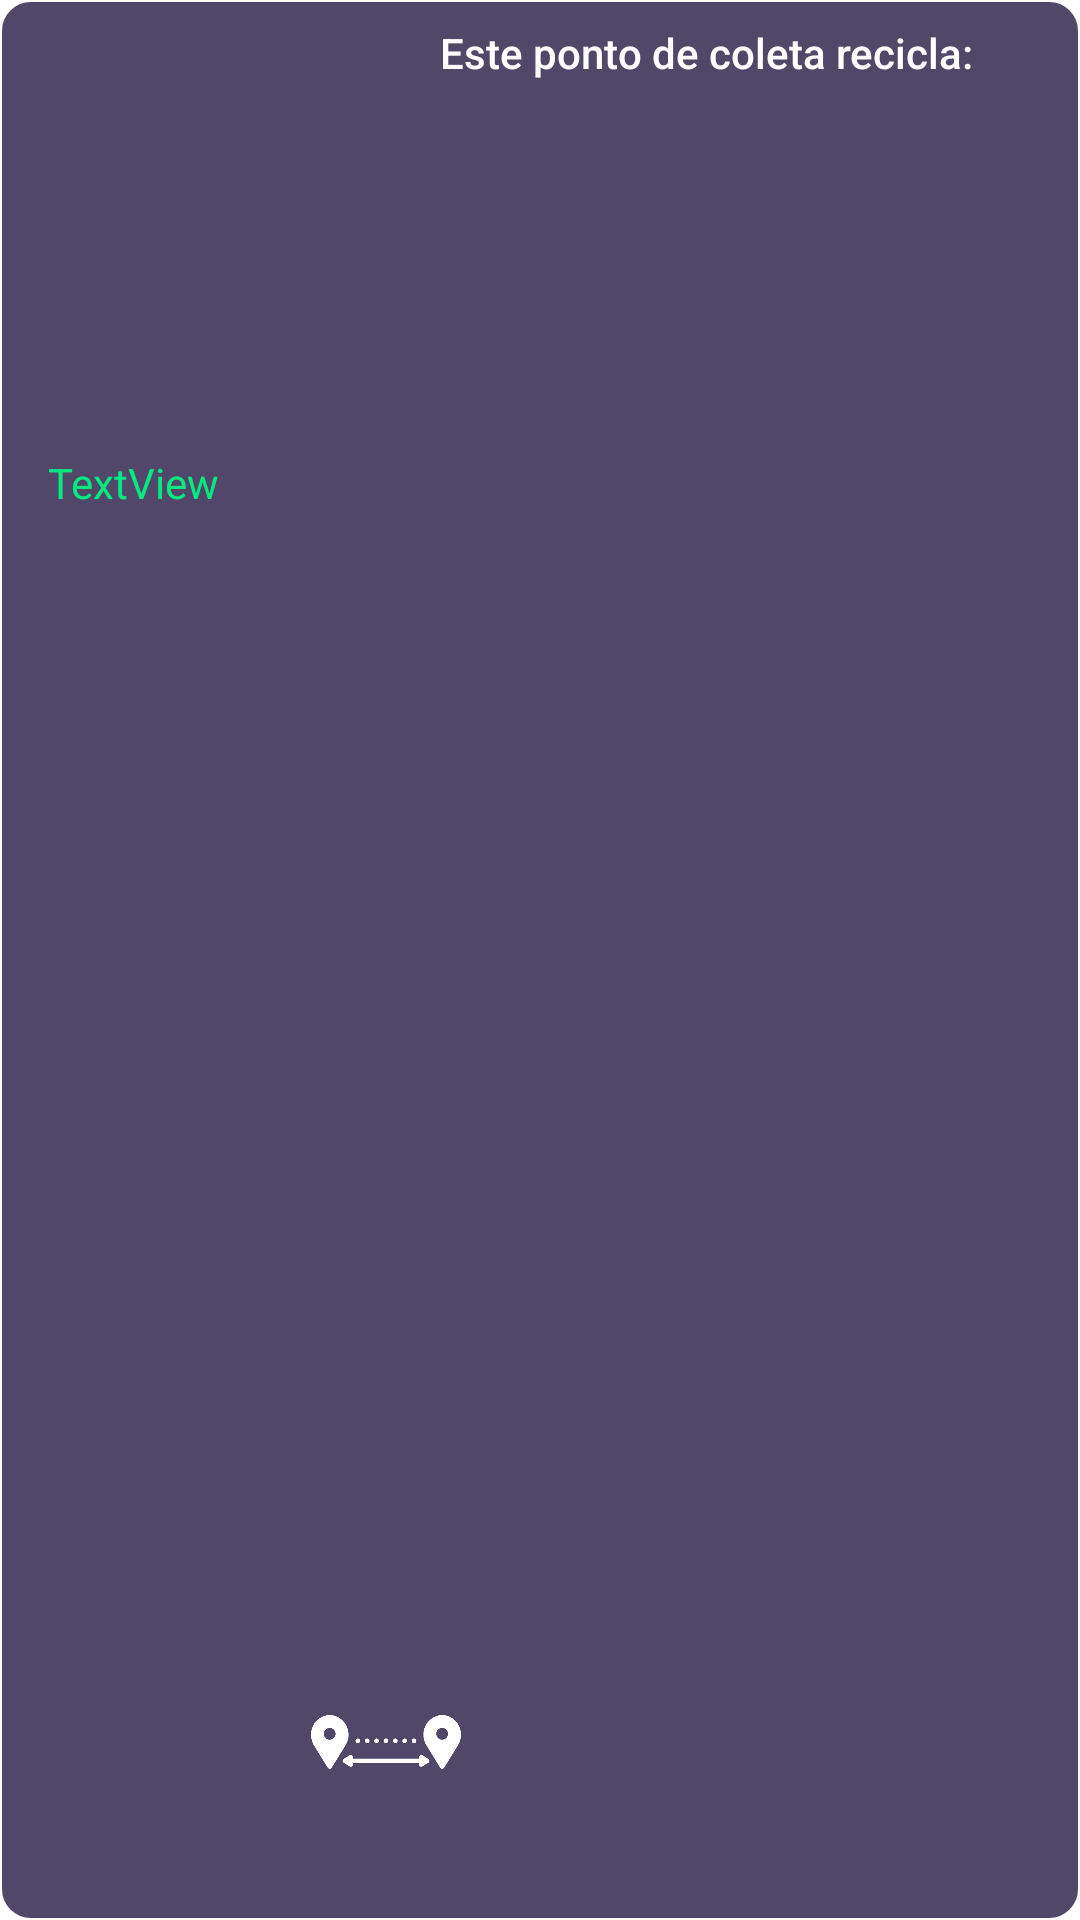

Named icons in this screenshot (1080w x 1920h) and their bounding boxes, bbox=[x1, y1, x2, y2]:
distancia: bbox=[311, 1715, 461, 1769]
